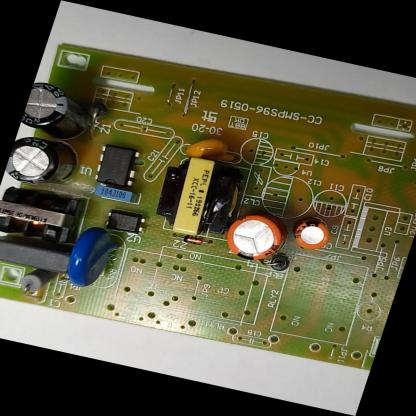Cap1: (221, 210, 291, 266)
Cap2: (290, 214, 336, 253)
Cap3: (2, 132, 88, 194)
Cap4: (18, 80, 102, 145)
MOSFET: (90, 141, 142, 188)
Mov: (61, 223, 129, 294)
Resistor: (15, 266, 57, 297)
Transformer: (148, 150, 250, 242), (0, 181, 88, 249)
